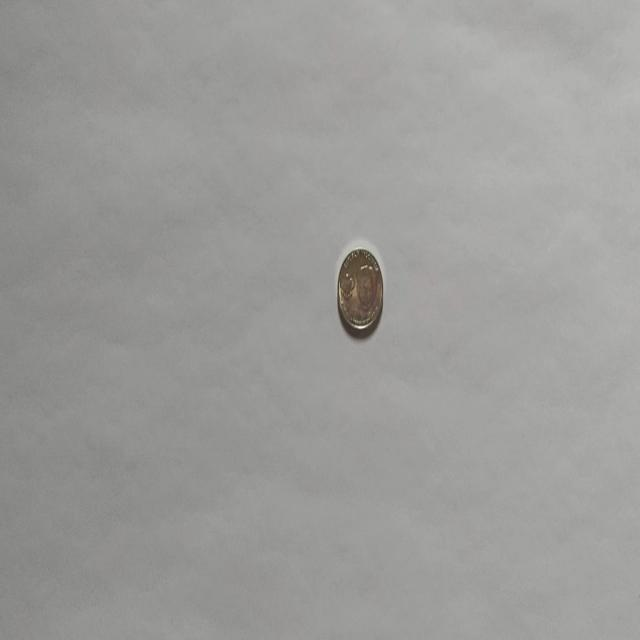seratus rupiah: (336, 246, 384, 334)
